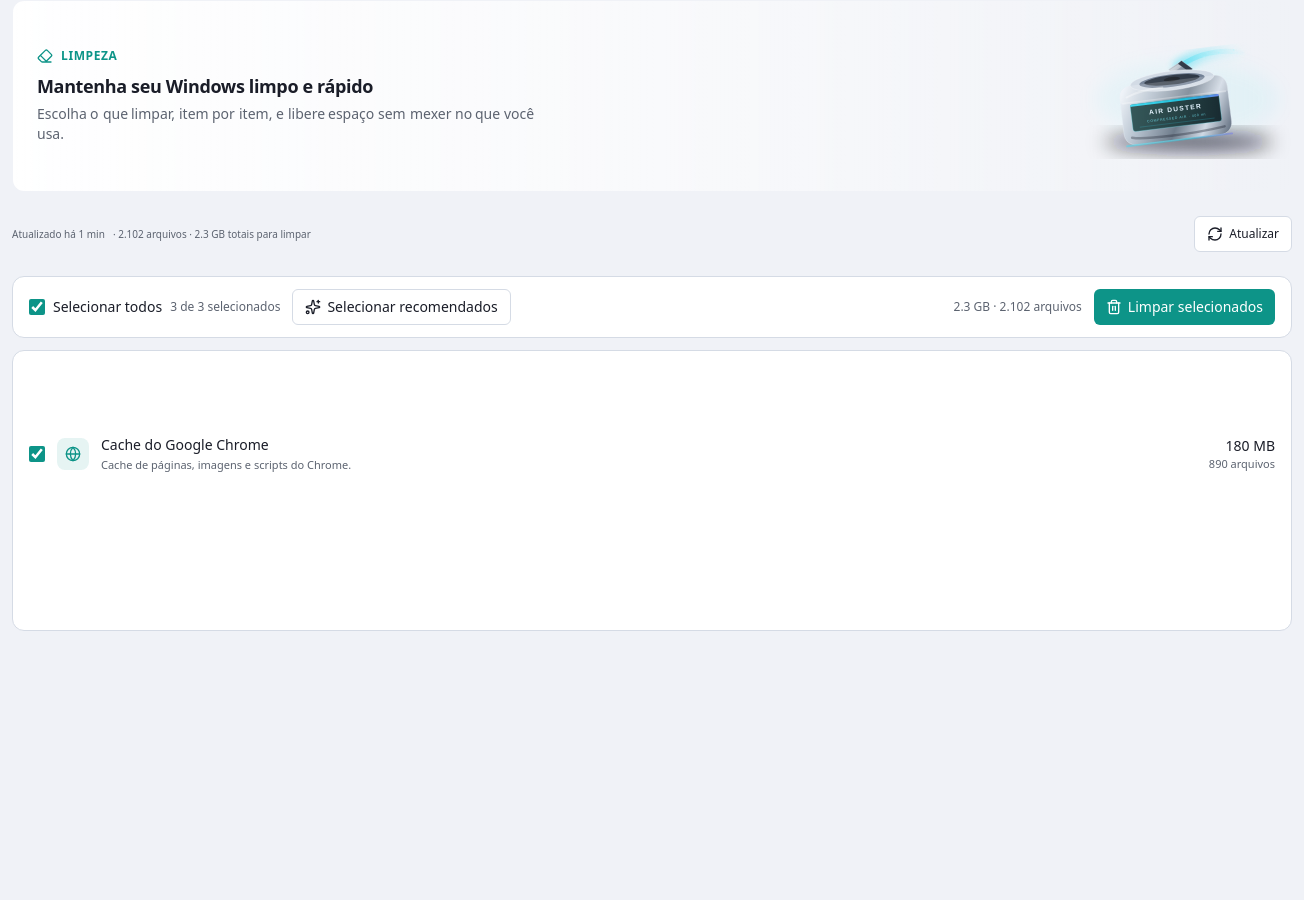
Test case: CleanerPage — virtualização › a linha virtualizada continua permitindo selecionar o item
Click the checkbox named "Selecionar Cache do Google Chrome" at (37, 454), box [29, 446, 45, 462]
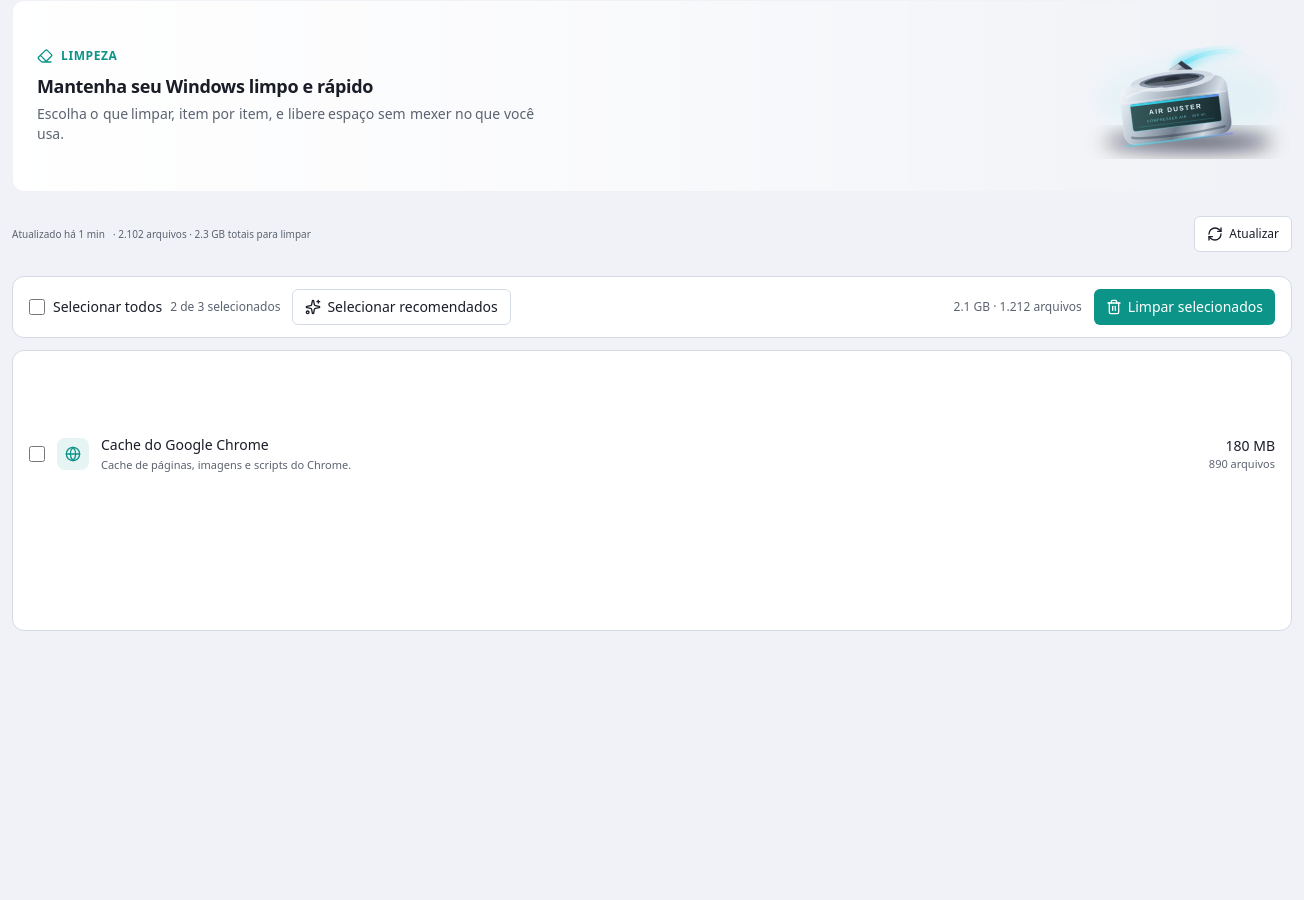
Result: the checkbox named "Selecionar Cache do Google Chrome" is not checked at [29, 446, 45, 462]
